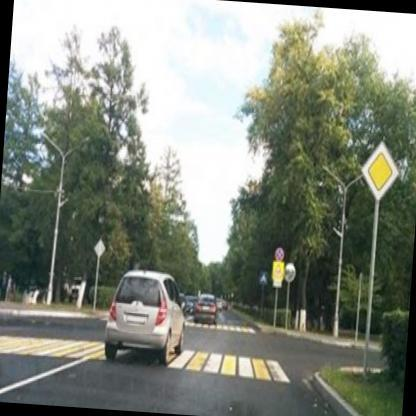road_sign: (362, 141, 398, 200), (272, 260, 285, 288), (275, 247, 284, 261), (259, 271, 267, 285)
